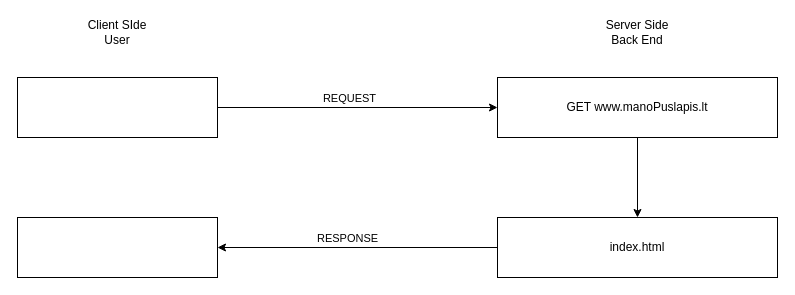
Image size: 795x295. Some labels were removed from this diagram. Here are the shapes that lost their labels. From the top down, the centre of each, then its label:
(x=117, y=107): www.manoPuslapis.lt
(x=117, y=247): narsykle atvaizduoja gauta puslapi
